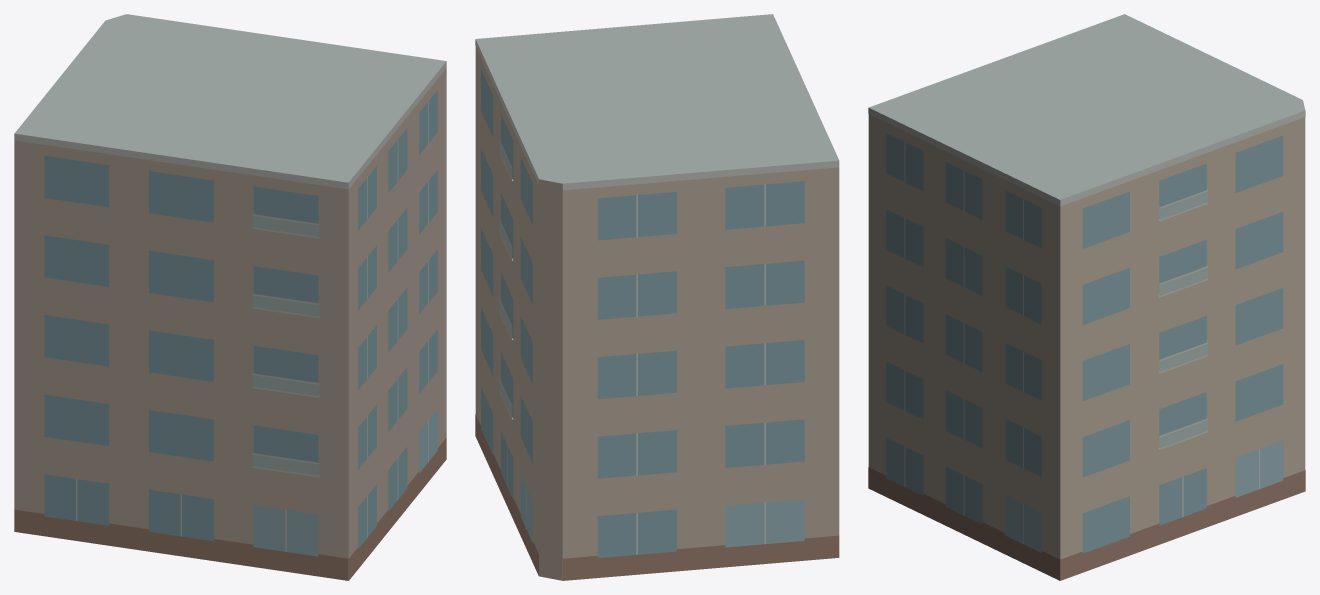
File: survey-upis-32642510.glb
3 renders of one model, left to right at view 1: azimuth 30°, elevation 25°; view 2: azimuth 150°, elevation 25°; view 3: azimuth 270°, elevation 25°, orthographic. The views are drawn at different scales.
Visible parts, largest first — view 1: survey-upis-32642510.tmp; view 2: survey-upis-32642510.tmp; view 3: survey-upis-32642510.tmp.
Boxes of the visible parts, <box> form: survey-upis-32642510.tmp: <box>14,14,446,580</box>; survey-upis-32642510.tmp: <box>475,14,839,580</box>; survey-upis-32642510.tmp: <box>868,14,1305,580</box>.
Size of the model in its own units: 15.09 by 14.4 by 14.98.
